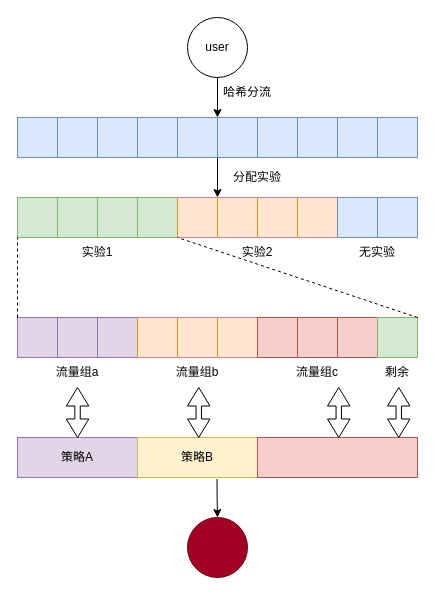
Some shapes in this 445 by 595 pixel diagram are drawn without their labels. The shapes that lost their labels are listed below. From the top down, each one's centre as x and y in pixels, then its label:
At (337,457): "策略C".
At (217,547): "完成分流".
